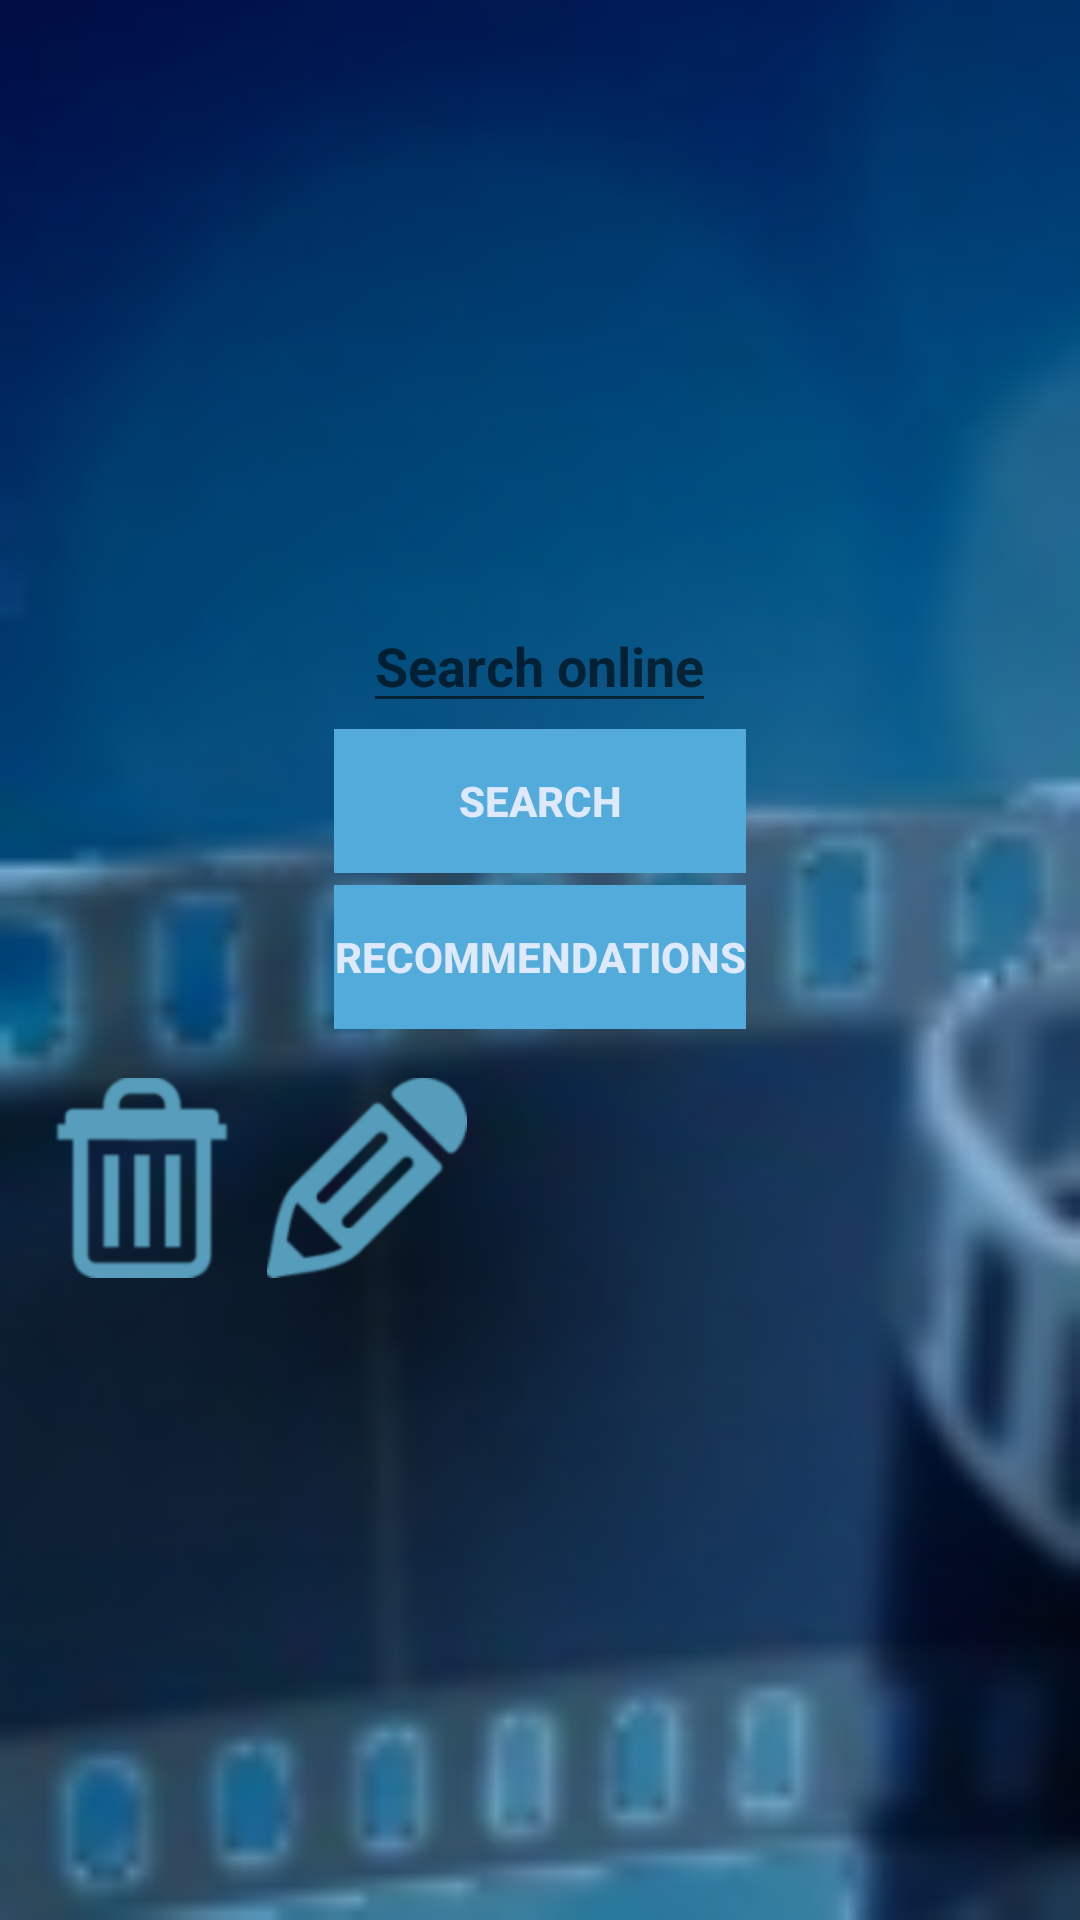

Named icons in this screenshot (1080×1920) and their centers, (x=x, y=y):
delete box: (x=141, y=1173)
edit pencil: (x=367, y=1178)
